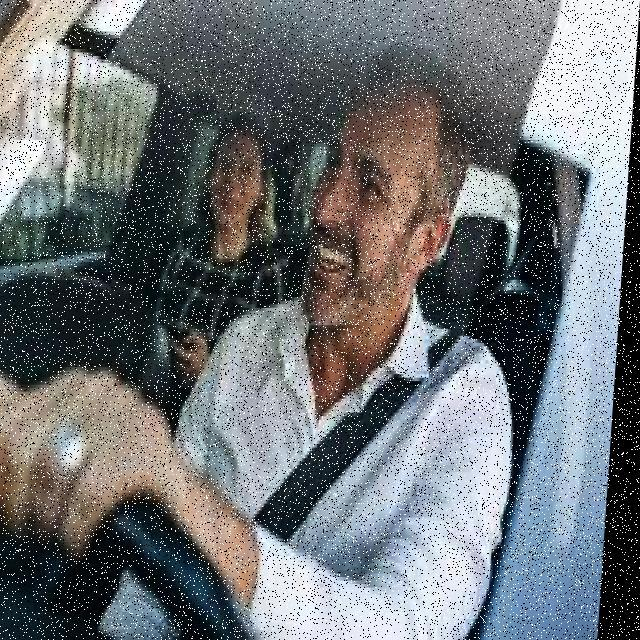noSeatbelt: (157, 208, 287, 358)
seatbelt: (176, 294, 524, 618)
